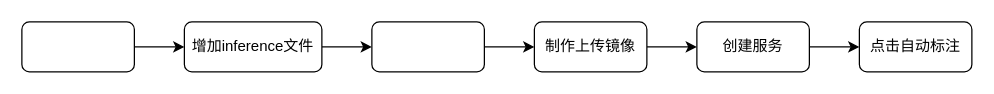
Some shapes in this 994 by 94 pixel diagram are drawn without their labels. Here are the shapes that lost their labels. From the top down, the centre of each, then its label:
(77,46): 编写算法程序
(427,46): 打包上传算法
